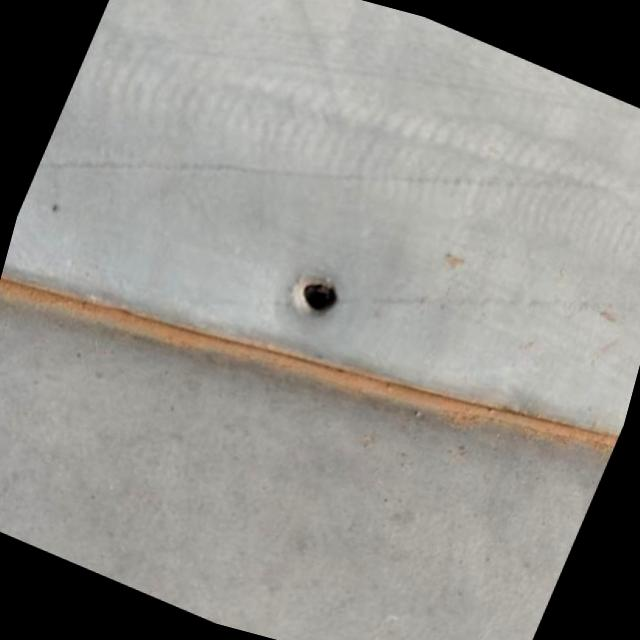Missing Fastener: (270, 254, 354, 336)
